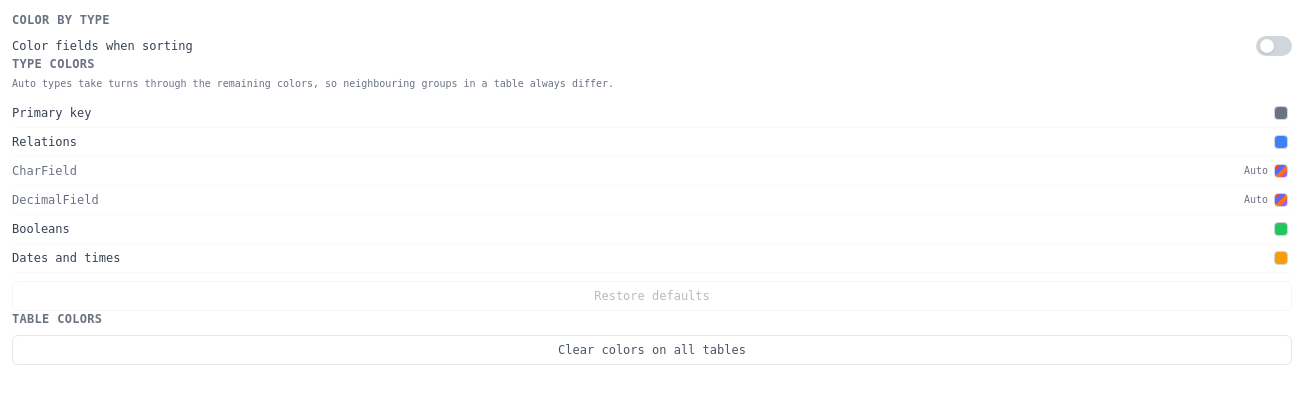
it: TypeColorSettings › Clear colors on all tables › confirming clears every table's colors and keeps everything else
Click the button "Clear colors on all tables": point(652, 350) top-left (12, 335), bottom-right (1292, 365)
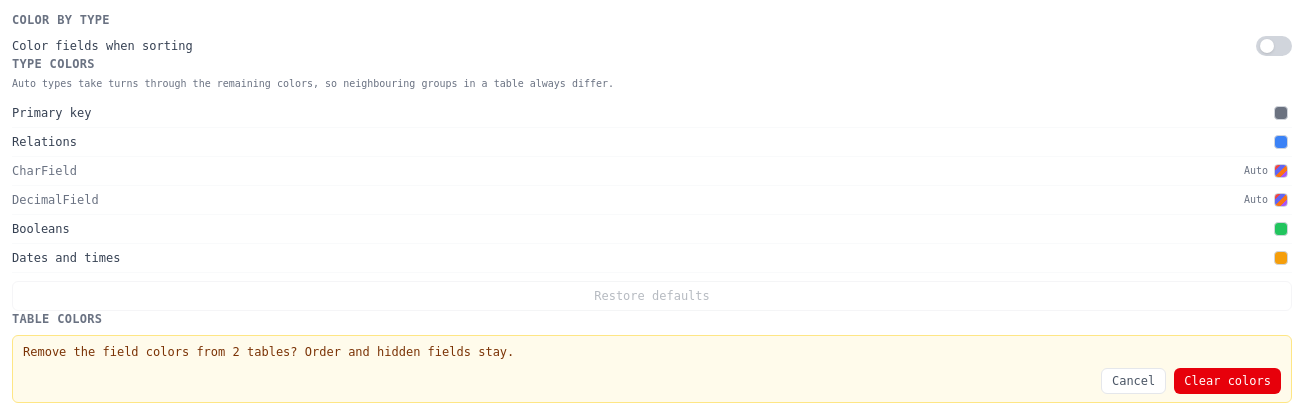
Click the button "Clear colors": point(1228, 381) top-left (1174, 368), bottom-right (1281, 394)
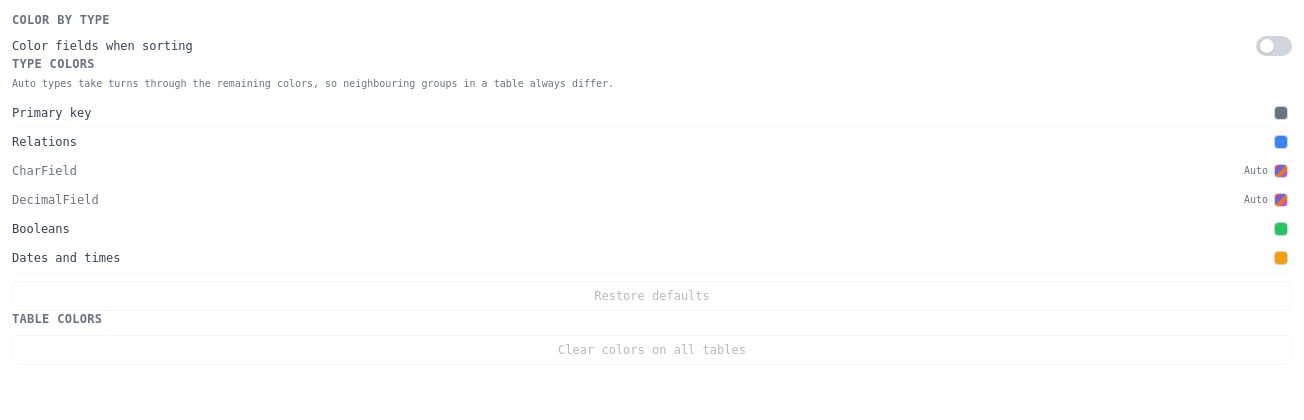
Result: the button "Clear colors on all tables" is disabled at top-left (12, 335), bottom-right (1292, 365)
